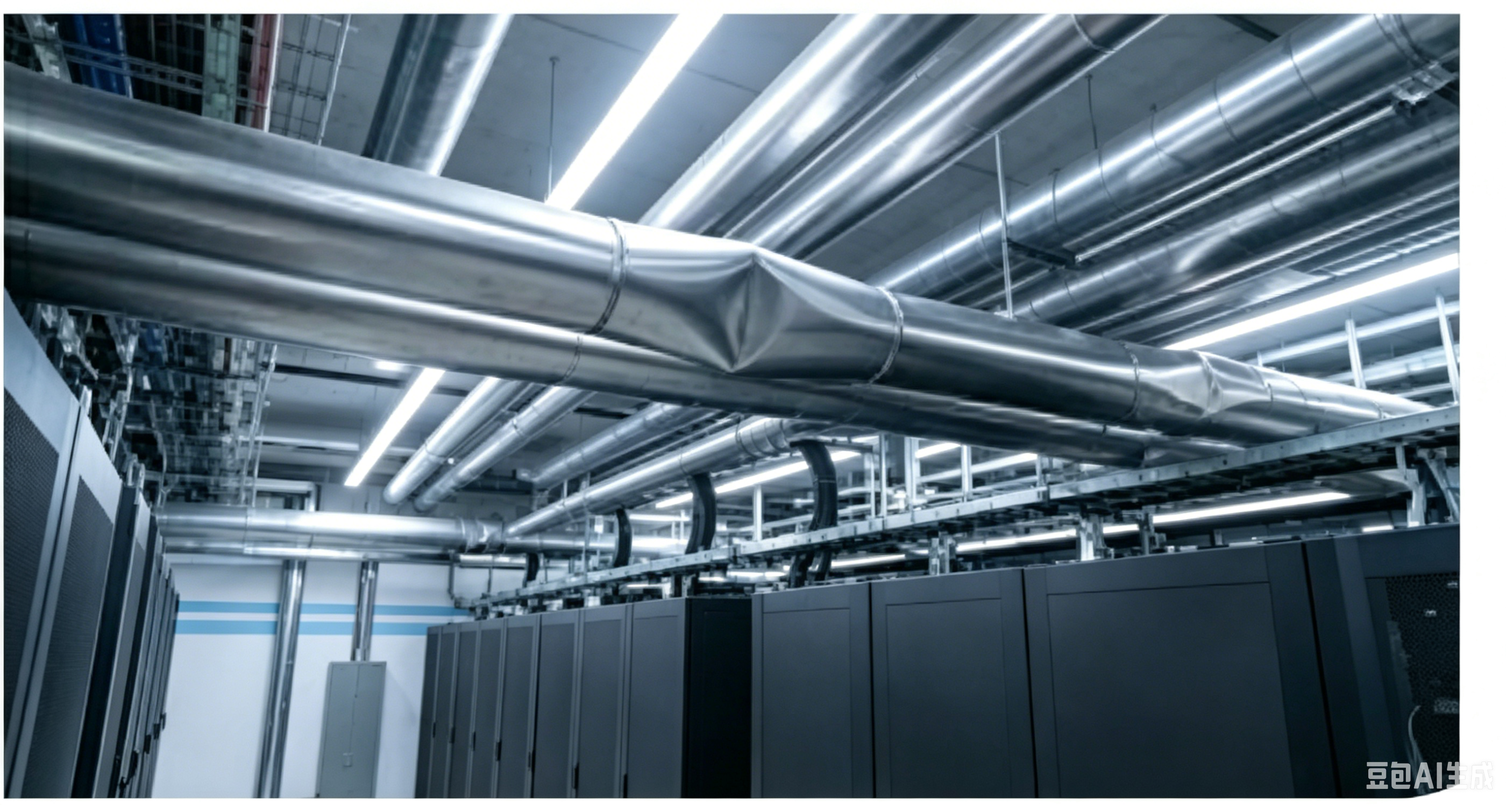Leakage: (690, 240, 801, 383)
